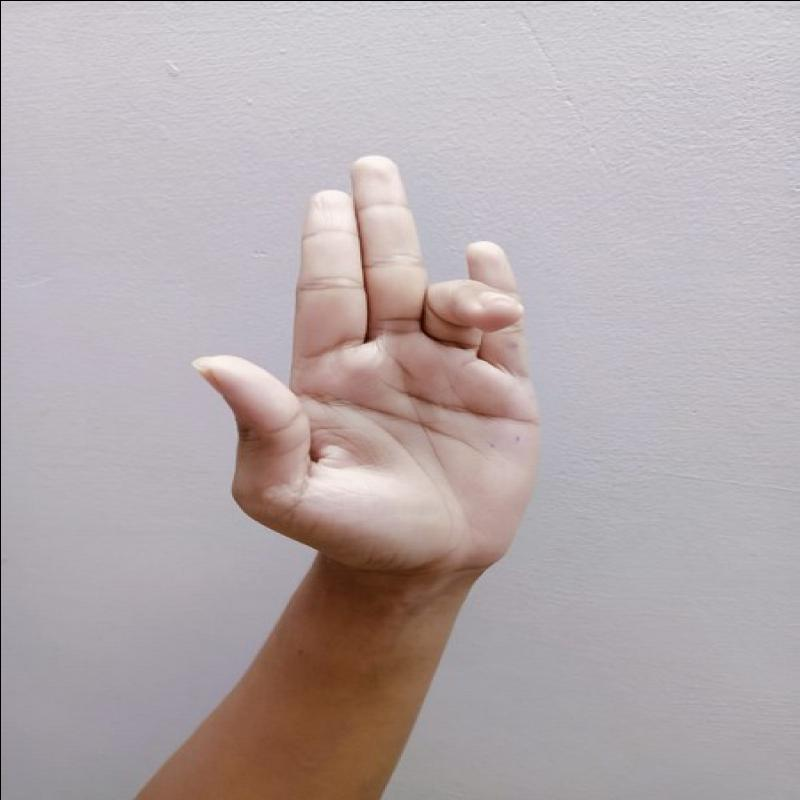Pathaaka: (180, 142, 560, 586)
